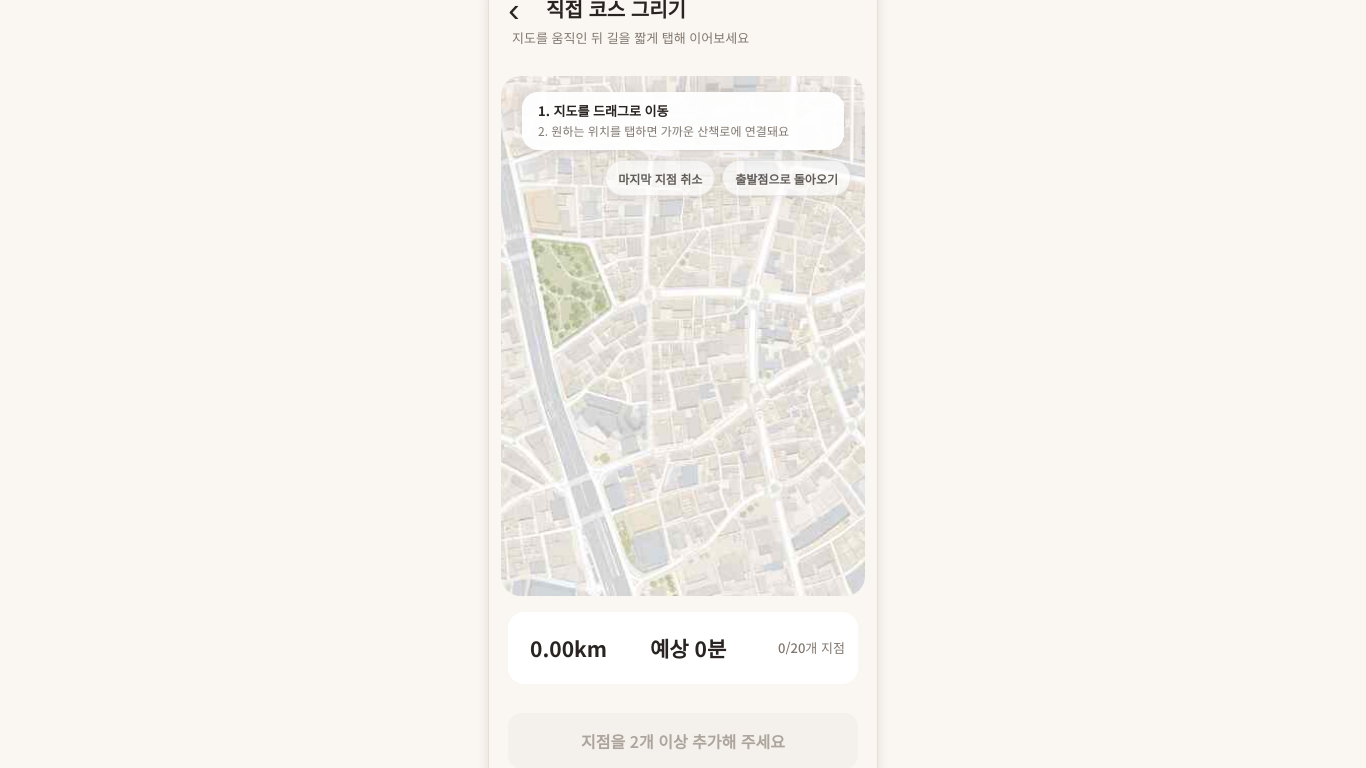
Test: DrawCoursePage › does not show a shade percentage after sunset
This screenshot has width=1366, height=768.
Click the button named "지도에 지점 추가".
click(683, 336)  # box [501, 76, 865, 596]
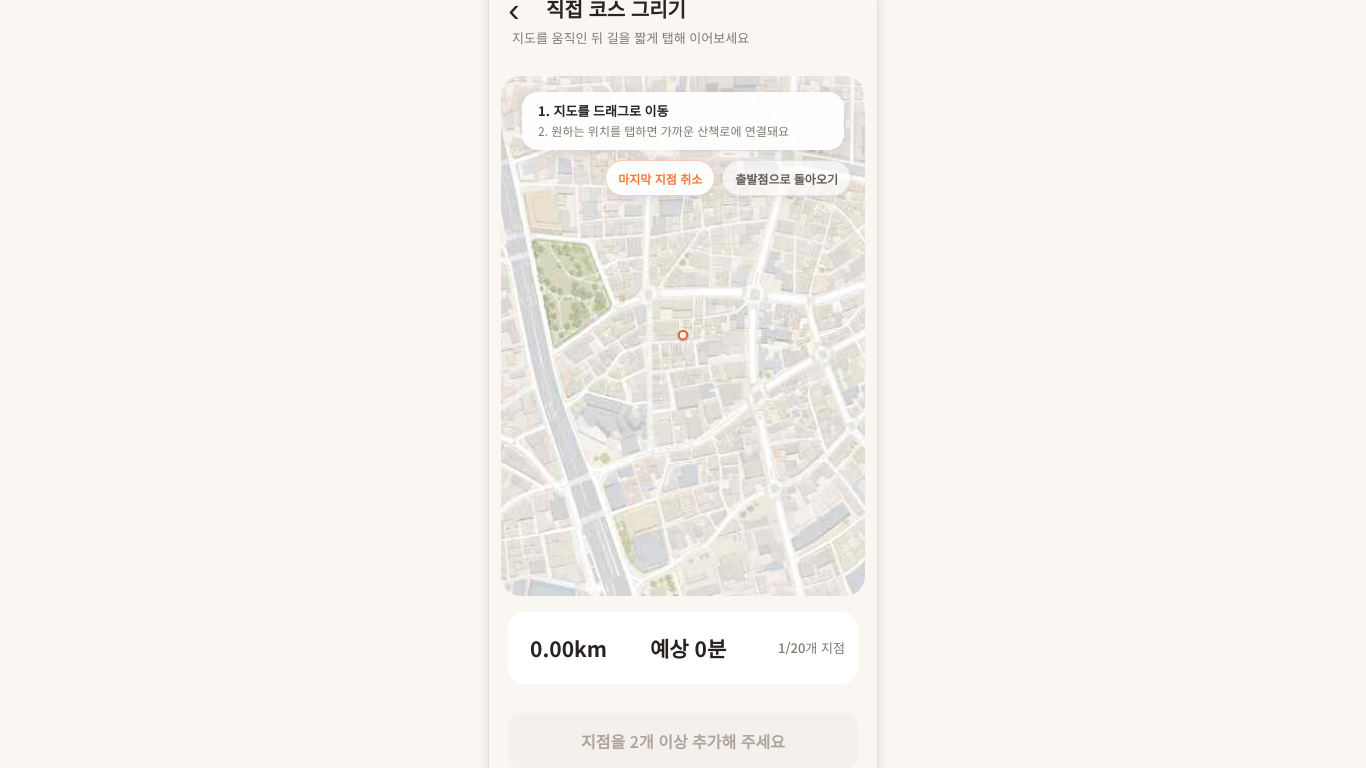
Now the text "1/20개 지점" is shown, box [778, 638, 845, 658]
Click the button named "지도에 지점 추가".
click(683, 336)  # box [501, 76, 865, 596]
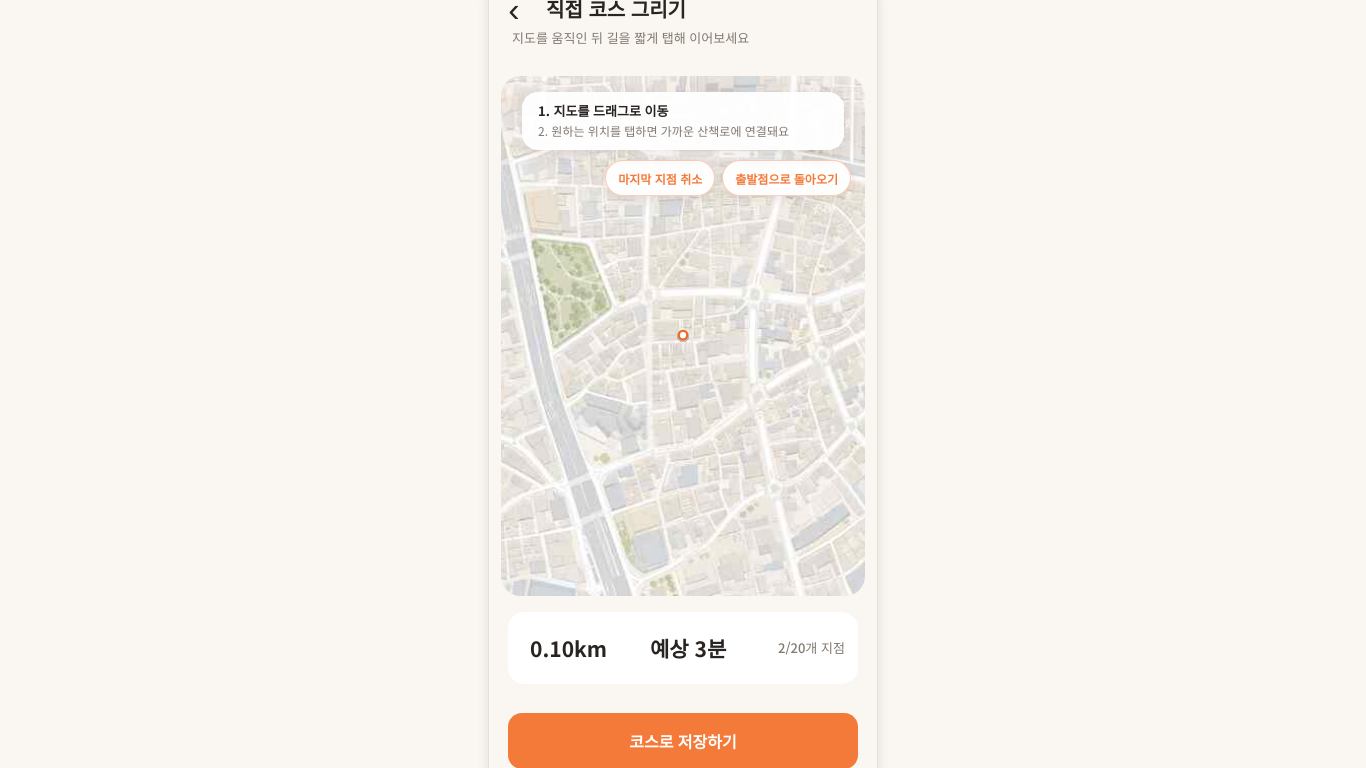
Now the text "2/20개 지점" is shown, box [778, 638, 845, 658]
Click the button "코스로 저장하기".
click(683, 741)  # box [508, 713, 858, 767]
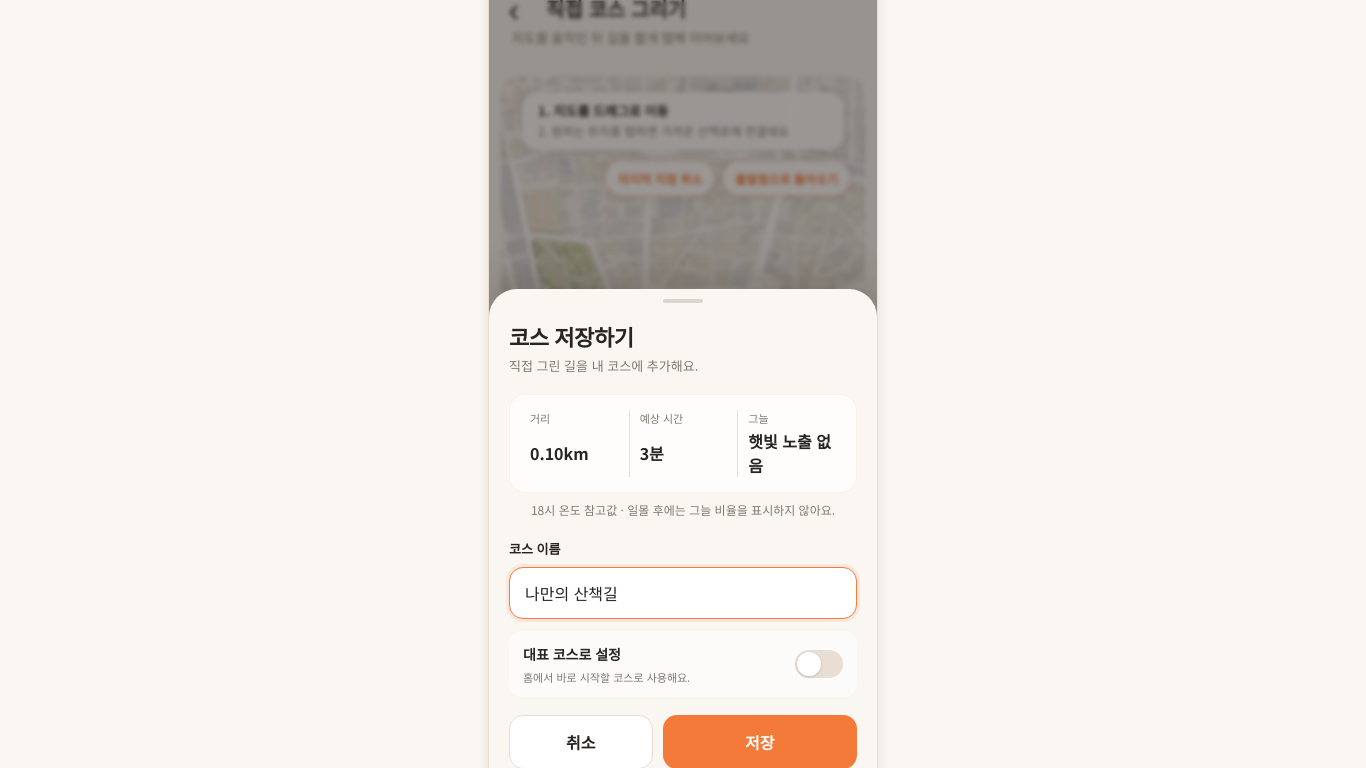
Now the text "햇빛 노출 없음" is shown, box [748, 429, 836, 477]
Now the text "18시 온도 참고값 · 일몰 후에는 그늘 비율을 표시하지 않아요." is shown, box [509, 501, 857, 519]
